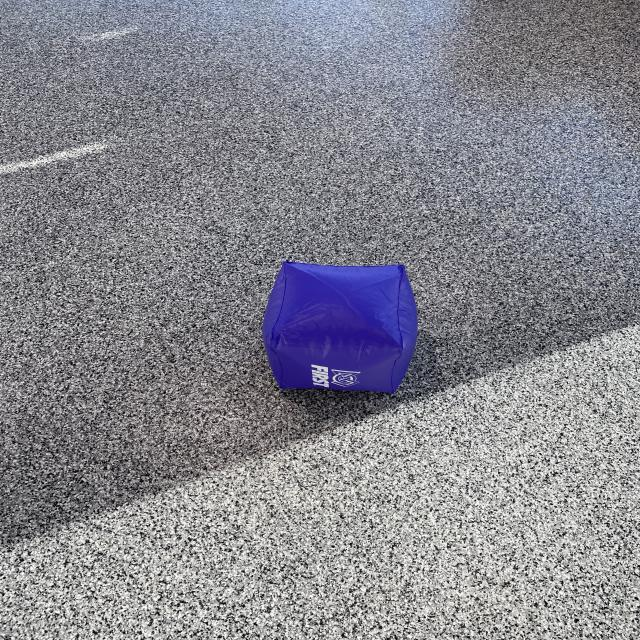frc_cube: (247, 256, 433, 401)
